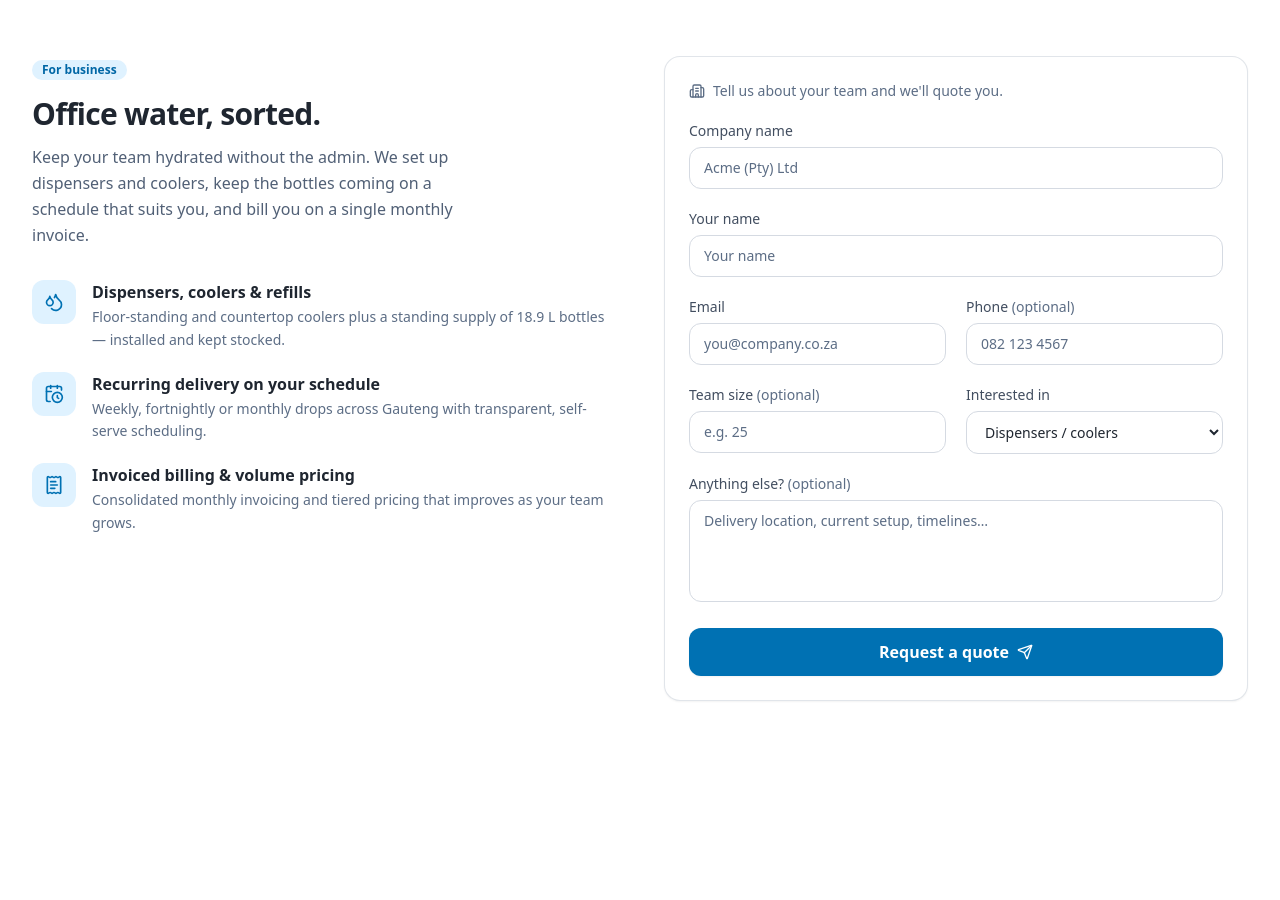
Test case: Business › validates required fields before submitting
What coordinates should you click on to do the following:
click the button "Request a quote"
I would click on:
 (956, 652)
Its box is x1=689 y1=628 x2=1223 y2=676.
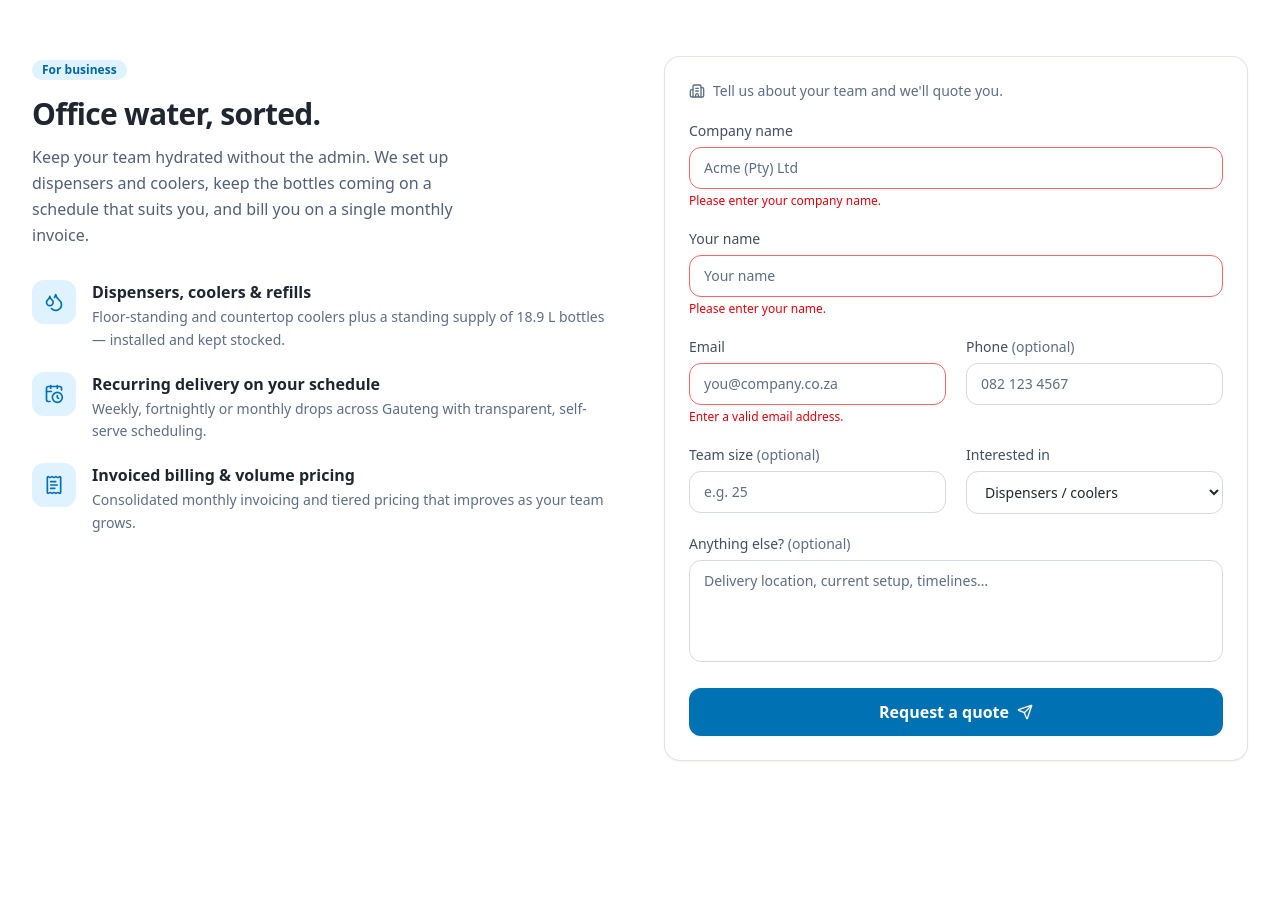
Check: the text "Please enter your company name." is shown, box x1=689 y1=192 x2=881 y2=209
